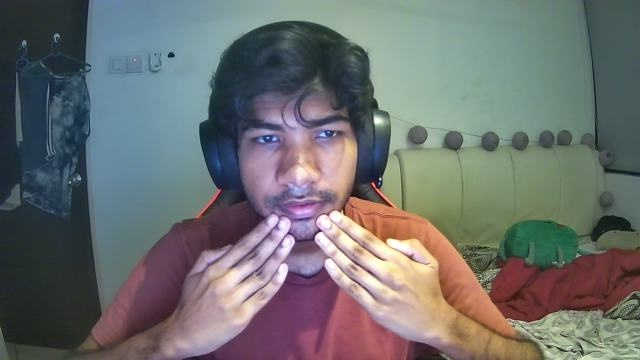Thank You: (176, 207, 448, 351)
